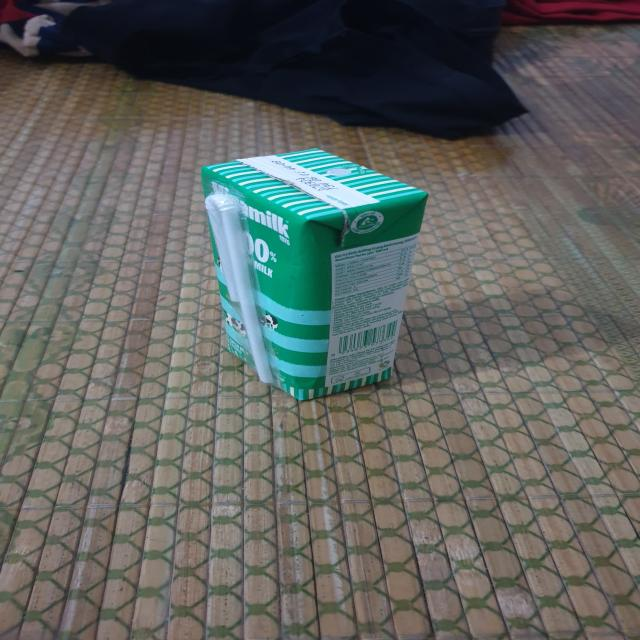Vina: (198, 154, 430, 405)
